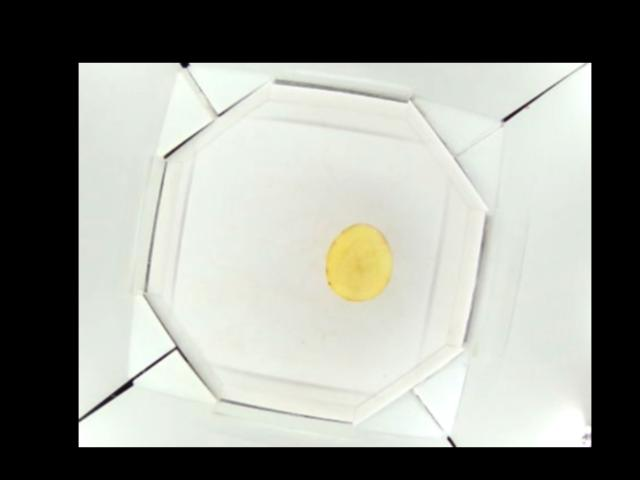Potato: (322, 221, 391, 303)
